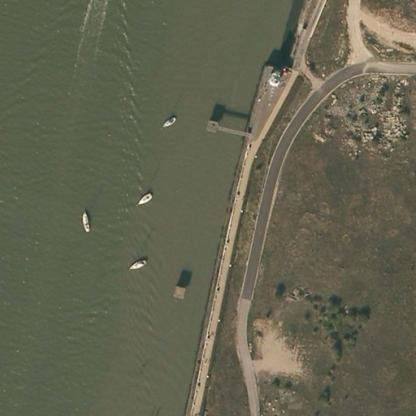ship: (74, 206, 95, 234), (122, 254, 150, 272), (133, 188, 155, 207), (156, 112, 180, 129)
